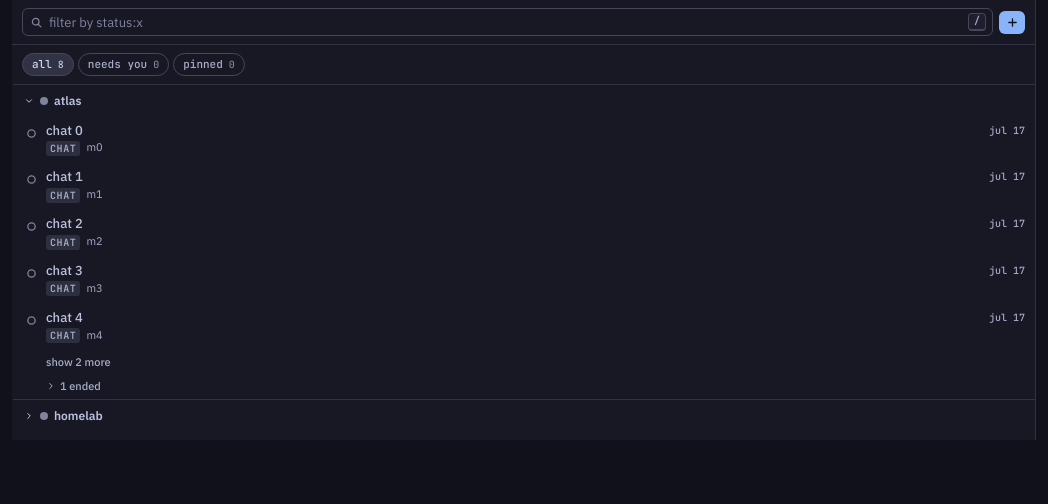
Test case: an agent lists its ended sessions behind a row styled like "show more"
The image size is (1048, 504).
Click the button "1 ended": click(80, 386) [12,375,1035,399]
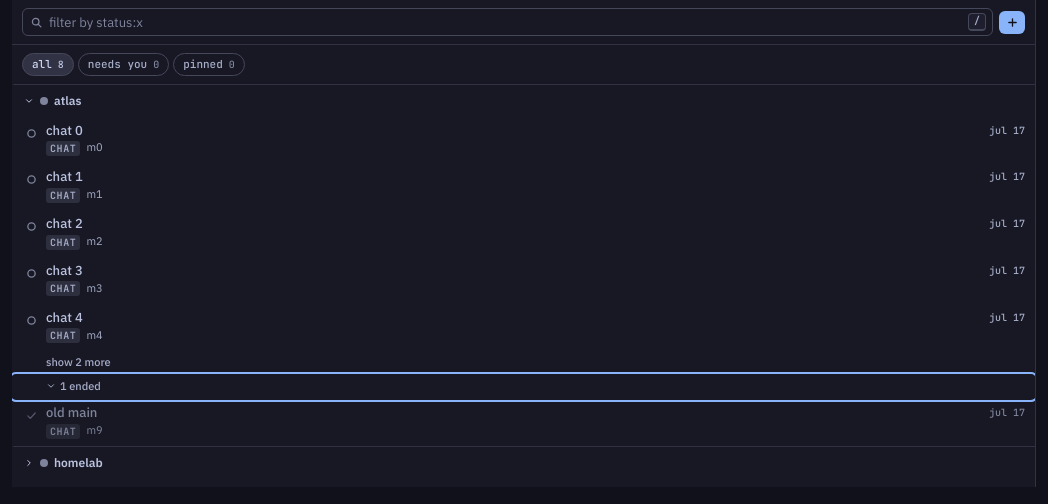
Now the button "old main jul 17 chat m9" is shown, box [12,399,1035,446]
